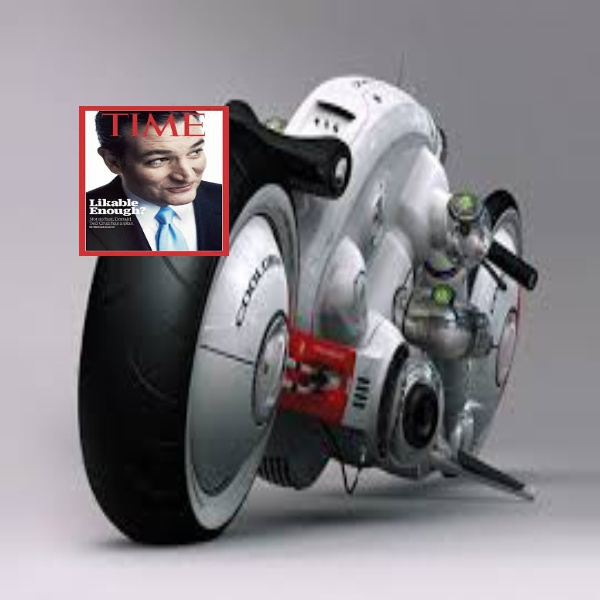time_cover: (75, 95, 232, 256)
